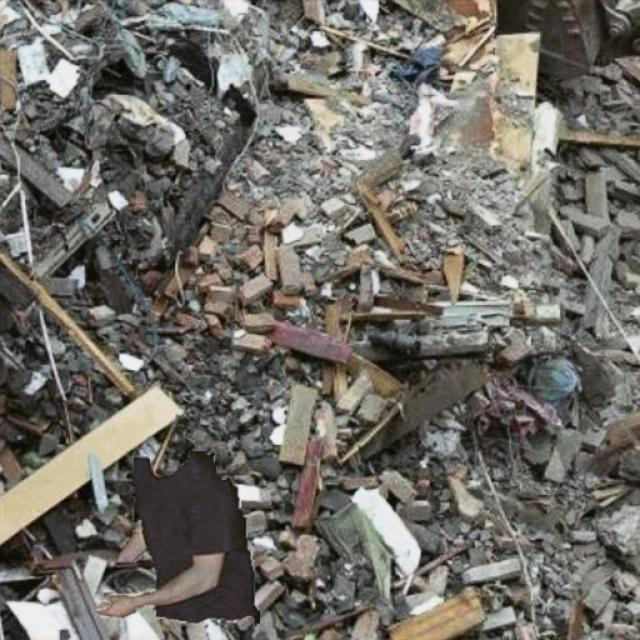Person in Rubble: (96, 451, 259, 625)
